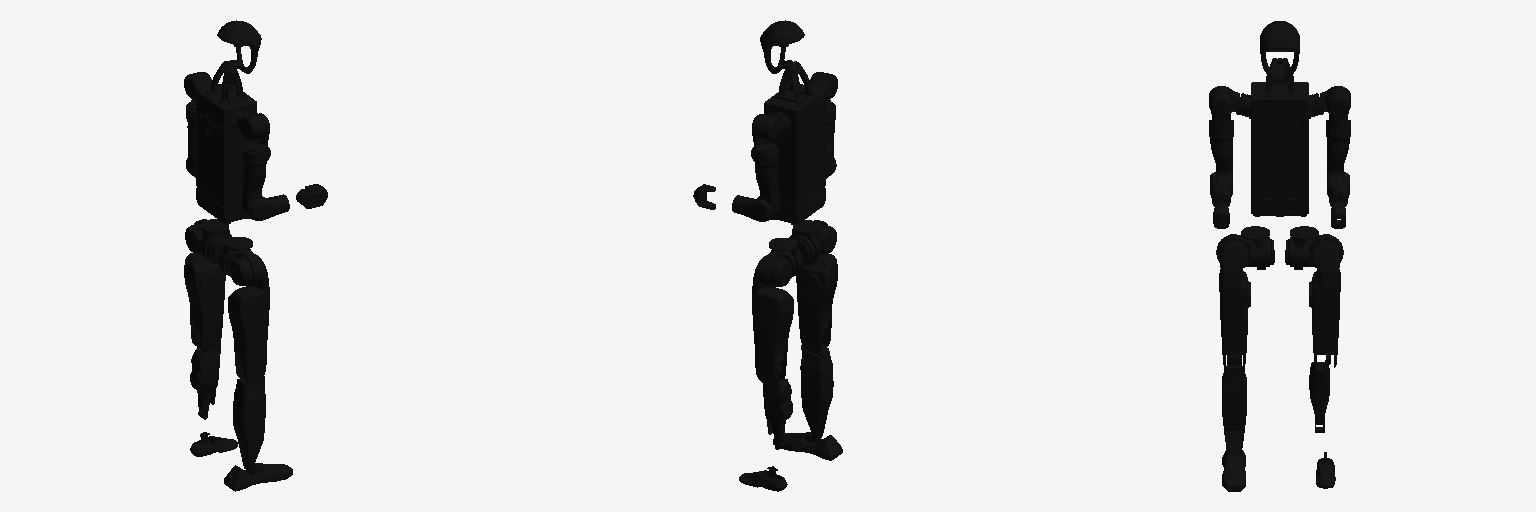
--- Facts derived from the render (not from the file) ---
The picture shows the robot from 3 angles, left to right: view 1: azimuth 30°, elevation 25°; view 2: azimuth 150°, elevation 25°; view 3: azimuth 270°, elevation 25°; orthographic projection.
Robot: h1_2 — 32 links, 31 joints (27 revolute, 4 fixed); root link pelvis; default pose: every joint at zero.
Links seen in each view (by area): view 1: torso_link, right_hip_roll_link, left_hip_roll_link, right_knee_link, left_knee_link, right_ankle_roll_link, right_hip_pitch_link, left_hip_yaw_link, right_shoulder_yaw_link, right_elbow_link, right_shoulder_roll_link, left_ankle_roll_link (+2 smaller); view 2: torso_link, left_hip_roll_link, right_hip_roll_link, right_knee_link, left_knee_link, right_ankle_roll_link, left_hip_pitch_link, right_hip_yaw_link, left_shoulder_yaw_link, left_elbow_link, left_shoulder_roll_link, left_ankle_roll_link (+2 smaller); view 3: torso_link, right_hip_roll_link, left_hip_roll_link, right_knee_link, left_knee_link, left_shoulder_roll_link, right_shoulder_roll_link, left_hip_yaw_link, right_hip_yaw_link, left_shoulder_yaw_link, right_shoulder_yaw_link, right_ankle_roll_link.
Boxes of the visible links, bbox=[...] form: torso_link: bbox=[196, 20, 261, 224]; right_hip_roll_link: bbox=[228, 254, 269, 383]; left_hip_roll_link: bbox=[184, 253, 225, 351]; right_knee_link: bbox=[233, 364, 265, 471]; left_knee_link: bbox=[190, 329, 220, 419]; right_ankle_roll_link: bbox=[224, 463, 292, 491]; right_hip_pitch_link: bbox=[227, 250, 262, 286]; left_hip_yaw_link: bbox=[201, 219, 231, 263]; right_shoulder_yaw_link: bbox=[242, 165, 265, 219]; right_elbow_link: bbox=[249, 194, 289, 220]; right_shoulder_roll_link: bbox=[243, 113, 269, 166]; left_ankle_roll_link: bbox=[190, 436, 237, 456]; torso_link: bbox=[760, 20, 825, 224]; left_hip_roll_link: bbox=[752, 255, 793, 385]; right_hip_roll_link: bbox=[796, 254, 837, 352]; right_knee_link: bbox=[800, 333, 833, 440]; left_knee_link: bbox=[763, 365, 792, 449]; right_ankle_roll_link: bbox=[773, 432, 842, 460]; left_hip_pitch_link: bbox=[759, 251, 794, 287]; right_hip_yaw_link: bbox=[789, 220, 821, 264]; left_shoulder_yaw_link: bbox=[755, 165, 779, 220]; left_elbow_link: bbox=[732, 195, 772, 221]; left_shoulder_roll_link: bbox=[752, 114, 778, 167]; left_ankle_roll_link: bbox=[739, 470, 787, 491]; torso_link: bbox=[1236, 21, 1323, 216]; right_hip_roll_link: bbox=[1219, 243, 1250, 366]; left_hip_roll_link: bbox=[1309, 243, 1340, 367]; right_knee_link: bbox=[1222, 355, 1246, 458]; left_knee_link: bbox=[1309, 355, 1330, 432]; left_shoulder_roll_link: bbox=[1326, 92, 1350, 142]; right_shoulder_roll_link: bbox=[1209, 92, 1233, 142]; left_hip_yaw_link: bbox=[1285, 226, 1318, 269]; right_hip_yaw_link: bbox=[1241, 226, 1274, 269]; left_shoulder_yaw_link: bbox=[1327, 139, 1349, 196]; right_shoulder_yaw_link: bbox=[1210, 139, 1232, 196]; right_ankle_roll_link: bbox=[1222, 450, 1245, 491].
Bounding box of the posed robot: 0.383 × 0.511 × 1.8 m (x, y, z).
24 mesh visuals loaded from 28 distinct referenced files (23 binary STL); not drawn: 5 (reference not matched to a file when rendering).

URDF robot description (h1_2):
<robot name="h1_2">

  <mujoco>
    <compiler meshdir="meshes" discardvisual="false"/>
  </mujoco>

  <!-- [CAUTION] uncomment when convert to mujoco -->
  <!-- <link name="world"></link>
  <joint name="floating_base_joint" type="floating">
    <parent link="world"/>
    <child link="pelvis"/>
  </joint> -->

  <link name="pelvis">
    <inertial>
      <origin xyz="-0.0004 3.7E-05 -0.046864" rpy="0 0 0"/>
      <mass value="5.983"/>
      <inertia ixx="49168.411E-06" ixy="-19.869E-06" ixz="-48.460E-06" iyy="9025.844E-06" iyz="3.431E-06" izz="53155.891E-06"/>
    </inertial>
    <visual>
      <origin xyz="0 0 0" rpy="0 0 0"/>
      <geometry>
        <mesh filename="meshes/pelvis.STL"/>
      </geometry>
      <material>
        <color rgba="0.1 0.1 0.1 1"/>
      </material>
    </visual>
    <collision>
      <origin xyz="0 0 0" rpy="0 0 0"/>
      <geometry>
        <sphere radius="0.05"/>
      </geometry>
    </collision>
  </link>

  <!-- L Leg -->
  <link name="left_hip_yaw_link">
    <inertial>
      <origin xyz="0 -0.026197 0.006647" rpy="0 0 0"/>
      <mass value="2.829"/>
      <inertia ixx="4553.605E-06" ixy="0.005E-06" ixz="0.817E-06" iyy="5688.730E-06" iyz="-345.157E-06" izz="3548.907E-06"/>
    </inertial>
    <visual>
      <origin xyz="0 0 0" rpy="0 0 0"/>
      <geometry>
        <mesh filename="meshes/left_hip_yaw_link.STL"/>
      </geometry>
      <material>
        <color rgba="0.1 0.1 0.1 1"/>
      </material>
    </visual>
    <collision>
      <origin xyz="0.02 0 0" rpy="0 1.5707963267948966192313216916398 0"/>
      <geometry>
        <cylinder radius="0.01" length="0.02"/>
      </geometry>
    </collision>
  </link>
  <joint name="left_hip_yaw_joint" type="revolute">
    <origin xyz="0 0.0875 -0.1632" rpy="0 0 0"/>
    <parent link="pelvis"/>
    <child link="left_hip_yaw_link"/>
    <axis xyz="0 0 1"/>
    <limit lower="-0.43" upper="0.43" effort="200" velocity="23"/>
  </joint>
  <link name="left_hip_pitch_link">
    <inertial>
      <origin xyz="-0.00781 -0.004724 -0.000063" rpy="0 0 0"/>
      <mass value="2.920"/>
      <inertia ixx="5594.7E-06" ixy="143.308E-06" ixz="-11.847E-06" iyy="3862.581E-06" iyz="-9.607E-06" izz="4450.563E-06"/>
    </inertial>
    <visual>
      <origin xyz="0 0 0" rpy="0 0 0"/>
      <geometry>
        <mesh filename="meshes/left_hip_pitch_link.STL"/>
      </geometry>
      <material>
        <color rgba="0.1 0.1 0.1 1"/>
      </material>
    </visual>
    <collision>
      <origin xyz="0 0 -0.2" rpy="0 0 0"/>
      <geometry>
        <cylinder radius="0.02" length="0.2"/>
      </geometry>
    </collision>
  </link>
  <joint name="left_hip_pitch_joint" type="revolute">
    <origin xyz="0 0.0755 0" rpy="0 0 0"/>
    <parent link="left_hip_yaw_link"/>
    <child link="left_hip_pitch_link"/>
    <axis xyz="0 1 0"/>
    <limit lower="-3.14" upper="2.5" effort="200" velocity="23"/>
  </joint>
  <link name="left_hip_roll_link">
    <inertial>
      <origin xyz="0.004171 -0.008576 -0.194509" rpy="0 0 0"/>
      <mass value="4.962"/>
      <inertia ixx="46305.869E-06" ixy="-322.626E-06" ixz="-1199.703E-06" iyy="47955.402E-06" iyz="288.147E-06" izz="8914.518E-06"/>
    </inertial>
    <visual>
      <origin xyz="0 0 0" rpy="0 0 0"/>
      <geometry>
        <mesh filename="meshes/left_hip_roll_link.STL"/>
      </geometry>
      <material>
        <color rgba="0.1 0.1 0.1 1"/>
      </material>
    </visual>
    <collision>
      <origin xyz="0 0.06 0" rpy="1.5707963267948966192313216916398 0 0"/>
      <geometry>
        <cylinder radius="0.02" length="0.01"/>
      </geometry>
    </collision>
  </link>
  <joint name="left_hip_roll_joint" type="revolute">
    <origin xyz="0 0 0" rpy="0 0 0"/>
    <parent link="left_hip_pitch_link"/>
    <child link="left_hip_roll_link"/>
    <axis xyz="1 0 0"/>
    <limit lower="-0.43" upper="3.14" effort="200" velocity="23"/>
  </joint>
  <link name="left_knee_link">
    <inertial>
      <origin xyz="0.000179 0.000121 -0.168936" rpy="0 0 0"/>
      <mass value="3.839"/>
      <inertia ixx="39002.363e-6" ixy="-72.364e-6" ixz="-794.506e-6" iyy="39042.376e-6" iyz="-18.663e-6" izz="5029.829e-6"/>
    </inertial>
    <visual>
      <origin xyz="0 0 0" rpy="0 0 0"/>
      <geometry>
        <mesh filename="meshes/left_knee_link.STL"/>
      </geometry>
      <material>
        <color rgba="0.1 0.1 0.1 1"/>
      </material>
    </visual>
    <collision>
      <origin xyz="0 0 -0.2" rpy="0 0 0"/>
      <geometry>
        <cylinder radius="0.02" length="0.2"/>
      </geometry>
    </collision>
  </link>
  <joint name="left_knee_joint" type="revolute">
    <origin xyz="0 0 -0.4" rpy="0 0 0"/>
    <parent link="left_hip_roll_link"/>
    <child link="left_knee_link"/>
    <axis xyz="0 1 0"/>
    <limit lower="-0.12" upper="2.19" effort="300" velocity="14"/>
  </joint>
  <link name="left_ankle_pitch_link">
    <inertial>
      <origin xyz="-0.000294 0 -0.010794" rpy="0 0 0"/>
      <mass value="0.102"/>
      <inertia ixx="0.000023944" ixy="0" ixz="0.000000121" iyy="0.000021837" iyz="0" izz="0.000013414"/>
    </inertial>
    <visual>
      <origin xyz="0 0 0" rpy="0 0 0"/>
      <geometry>
        <mesh filename="meshes/left_ankle_pitch_link.STL"/>
      </geometry>
      <material>
        <color rgba="0.1 0.1 0.1 1"/>
      </material>
    </visual>
    <collision>
      <origin xyz="0 0 0" rpy="0 0 0"/>
      <geometry>
        <mesh filename="meshes/left_ankle_pitch_link.STL"/>
      </geometry>
    </collision>
  </link>
  <joint name="left_ankle_pitch_joint" type="revolute">
    <origin xyz="0 0 -0.4" rpy="0 0 0"/>
    <parent link="left_knee_link"/>
    <child link="left_ankle_pitch_link"/>
    <axis xyz="0 1 0"/>
    <limit lower="-0.897334" upper="0.523598" effort="60" velocity="9"/>
  </joint>
  <link name="left_ankle_roll_link">
    <inertial>
      <origin xyz="0.029589 0 -0.015973" rpy="0 0 0"/>
      <mass value="0.747"/>
      <inertia ixx="648.830e-6" ixy="0" ixz="158.380e-6" iyy="3435.339e-6" iyz="0" izz="3583.259e-6"/>
    </inertial>
    <visual>
      <origin xyz="0 0 0" rpy="0 0 0"/>
      <geometry>
        <mesh filename="meshes/left_ankle_roll_link.STL"/>
      </geometry>
      <material>
        <color rgba="0.1 0.1 0.1 1"/>
      </material>
    </visual>
    <collision>
      <origin xyz="0 0 0" rpy="0 0 0"/>
      <geometry>
        <mesh filename="meshes/left_ankle_roll_link.STL"/>
      </geometry>
    </collision>
  </link>
  <joint name="left_ankle_roll_joint" type="revolute">
    <origin xyz="0 0 -0.02" rpy="0 0 0"/>
    <parent link="left_ankle_pitch_link"/>
    <child link="left_ankle_roll_link"/>
    <axis xyz="1 0 0"/>
    <limit lower="-0.261799" upper="0.261799" effort="40" velocity="9"/>
  </joint>

  <!-- R Leg -->
  <link name="right_hip_yaw_link">
    <inertial>
      <origin xyz="0 0.026197 0.006647" rpy="0 0 0"/>
      <mass value="2.829"/>
      <inertia ixx="4553.605E-06" ixy="-0.005E-06" ixz="0.817E-06" iyy="5688.730E-06" iyz="345.157E-06" izz="3548.907E-06"/>
    </inertial>
    <visual>
      <origin xyz="0 0 0" rpy="0 0 0"/>
      <geometry>
        <mesh filename="meshes/right_hip_yaw_link.STL"/>
      </geometry>
      <material>
        <color rgba="0.1 0.1 0.1 1"/>
      </material>
    </visual>
    <collision>
      <origin xyz="0.02 0 0" rpy="0 1.5707963267948966192313216916398 0"/>
      <geometry>
        <cylinder radius="0.01" length="0.02"/>
      </geometry>
    </collision>
  </link>
  <joint name="right_hip_yaw_joint" type="revolute">
    <origin xyz="0 -0.0875 -0.1632" rpy="0 0 0"/>
    <parent link="pelvis"/>
    <child link="right_hip_yaw_link"/>
    <axis xyz="0 0 1"/>
    <limit lower="-0.43" upper="0.43" effort="200" velocity="23"/>
  </joint>
  <link name="right_hip_pitch_link">
    <inertial>
      <origin xyz="-0.00781 0.004724 -0.000063" rpy="0 0 0"/>
      <mass value="2.920"/>
      <inertia ixx="5594.7E-06" ixy="-143.308E-06" ixz="-11.847E-06" iyy="3862.581E-06" iyz="9.607E-06" izz="4450.563E-06"/>
    </inertial>
    <visual>
      <origin xyz="0 0 0" rpy="0 0 0"/>
      <geometry>
        <mesh filename="meshes/right_hip_pitch_link.STL"/>
      </geometry>
      <material>
        <color rgba="0.1 0.1 0.1 1"/>
      </material>
    </visual>
    <collision>
      <origin xyz="0 0 -0.2" rpy="0 0 0"/>
      <geometry>
        <cylinder radius="0.02" length="0.2"/>
      </geometry>
    </collision>
  </link>
  <joint name="right_hip_pitch_joint" type="revolute">
    <origin xyz="0 -0.0755 0" rpy="0 0 0"/>
    <parent link="right_hip_yaw_link"/>
    <child link="right_hip_pitch_link"/>
    <axis xyz="0 1 0"/>
    <limit lower="-3.14" upper="2.5" effort="200" velocity="23"/>
  </joint>
  <link name="right_hip_roll_link">
    <inertial>
      <origin xyz="0.004171 0.008576 -0.194509" rpy="0 0 0"/>
      <mass value="4.962"/>
      <inertia ixx="46305.869E-06" ixy="322.626E-06" ixz="-1199.703E-06" iyy="47955.402E-06" iyz="-288.147E-06" izz="8914.518E-06"/>
    </inertial>
    <visual>
      <origin xyz="0 0 0" rpy="0 0 0"/>
      <geometry>
        <mesh filename="meshes/right_hip_roll_link.STL"/>
      </geometry>
      <material>
        <color rgba="0.1 0.1 0.1 1"/>
      </material>
    </visual>
    <collision>
      <origin xyz="0 -0.06 0" rpy="1.5707963267948966192313216916398 0 0"/>
      <geometry>
        <cylinder radius="0.02" length="0.01"/>
      </geometry>
    </collision>
  </link>
  <joint name="right_hip_roll_joint" type="revolute">
    <origin xyz="0 0 0" rpy="0 0 0"/>
    <parent link="right_hip_pitch_link"/>
    <child link="right_hip_roll_link"/>
    <axis xyz="1 0 0"/>
    <limit lower="-3.14" upper="0.43" effort="200" velocity="23"/>
  </joint>
  <link name="right_knee_link">
    <inertial>
      <origin xyz="0.000179 -0.000121 -0.168936" rpy="0 0 0"/>
      <mass value="3.839"/>
      <inertia ixx="39002.363e-6" ixy="72.364e-6" ixz="-794.506e-6" iyy="39042.376e-6" iyz="18.663e-6" izz="5029.829e-6"/>
    </inertial>
    <visual>
      <origin xyz="0 0 0" rpy="0 0 0"/>
      <geometry>
        <mesh filename="meshes/right_knee_link.STL"/>
      </geometry>
      <material>
        <color rgba="0.1 0.1 0.1 1"/>
      </material>
    </visual>
    <collision>
      <origin xyz="0 0 -0.2" rpy="0 0 0"/>
      <geometry>
        <cylinder radius="0.02" length="0.2"/>
      </geometry>
    </collision>
  </link>
  <joint name="right_knee_joint" type="revolute">
    <origin xyz="0 0 -0.4" rpy="0 0 0"/>
    <parent link="right_hip_roll_link"/>
    <child link="right_knee_link"/>
    <axis xyz="0 1 0"/>
    <limit lower="-0.12" upper="2.19" effort="300" velocity="14"/>
  </joint>
  <link name="right_ankle_pitch_link">
    <inertial>
      <origin xyz="-0.000294 0 -0.010794" rpy="0 0 0"/>
      <mass value="0.102"/>
      <inertia ixx="0.000023944" ixy="0" ixz="0.000000121" iyy="0.000021837" iyz="0" izz="0.000013414"/>
    </inertial>
    <visual>
      <origin xyz="0 0 0" rpy="0 0 0"/>
      <geometry>
        <mesh filename="meshes/right_ankle_pitch_link.STL"/>
      </geometry>
      <material>
        <color rgba="0.1 0.1 0.1 1"/>
      </material>
    </visual>
    <collision>
      <origin xyz="0 0 0" rpy="0 0 0"/>
      <geometry>
        <mesh filename="meshes/right_ankle_pitch_link.STL"/>
      </geometry>
    </collision>
  </link>
  <joint name="right_ankle_pitch_joint" type="revolute">
    <origin xyz="0 0 -0.4" rpy="0 0 0"/>
    <parent link="right_knee_link"/>
    <child link="right_ankle_pitch_link"/>
    <axis xyz="0 1 0"/>
    <limit lower="-0.897334" upper="0.523598" effort="60" velocity="9"/>
  </joint>
  <link name="right_ankle_roll_link">
    <inertial>
      <origin xyz="0.029589 0 -0.015973" rpy="0 0 0"/>
      <mass value="0.747"/>
      <inertia ixx="648.830e-6" ixy="0" ixz="158.380e-6" iyy="3435.339e-6" iyz="0" izz="3583.259e-6"/>
    </inertial>
    <visual>
      <origin xyz="0 0 0" rpy="0 0 0"/>
      <geometry>
        <mesh filename="meshes/right_ankle_roll_link.STL"/>
      </geometry>
      <material>
        <color rgba="0.1 0.1 0.1 1"/>
      </material>
    </visual>
    <collision>
      <origin xyz="0 0 0" rpy="0 0 0"/>
      <geometry>
        <mesh filename="meshes/right_ankle_roll_link.STL"/>
      </geometry>
    </collision>
  </link>
  <joint name="right_ankle_roll_joint" type="revolute">
    <origin xyz="0 0 -0.02" rpy="0 0 0"/>
    <parent link="right_ankle_pitch_link"/>
    <child link="right_ankle_roll_link"/>
    <axis xyz="1 0 0"/>
    <limit lower="-0.261799" upper="0.261799" effort="40" velocity="9"/>
  </joint>

  <!-- Torso -->
  <link name="torso_link">
    <inertial>
      <origin xyz="0.000489 0.002797 0.20484" rpy="0 0 0"/>
      <mass value="17.789"/>
      <inertia ixx="0.4873" ixy="-0.00053763" ixz="0.0020276" iyy="0.40963" iyz="-0.00074582" izz="0.12785"/>
    </inertial>
    <visual>
      <origin xyz="0 0 0" rpy="0 0 0"/>
      <geometry>
        <mesh filename="meshes/torso_link.STL"/>
      </geometry>
      <material>
        <color rgba="0.1 0.1 0.1 1"/>
      </material>
    </visual>
    <collision>
      <origin xyz="0 0 0.15" rpy="0 0 0"/>
      <geometry>
        <box size="0.08 0.16 0.1"/>
      </geometry>
    </collision>
  </link>
  <joint name="torso_joint" type="revolute">
    <origin xyz="0 0 0" rpy="0 0 0"/>
    <parent link="pelvis"/>
    <child link="torso_link"/>
    <axis xyz="0 0 1"/>
    <limit lower="-2.35" upper="2.35" effort="200" velocity="23"/>
  </joint>

  <!-- L arm -->
  <link name="left_shoulder_pitch_link">
    <inertial>
      <origin xyz="0.003053 0.06042 -0.0059" rpy="0 0 0"/>
      <mass value="1.327"/>
      <inertia ixx="0.00058661" ixy="-2.0157E-05" ixz="2.985E-06" iyy="0.0003989" iyz="2.238E-05" izz="0.00052936"/>
    </inertial>
    <visual>
      <origin xyz="0 0 0" rpy="0 0 0"/>
      <geometry>
        <mesh filename="meshes/left_shoulder_pitch_link.STL"/>
      </geometry>
      <material>
        <color rgba="0.1 0.1 0.1 1"/>
      </material>
    </visual>
    <collision>
      <origin xyz="0 0 0" rpy="0 0 0"/>
      <geometry>
        <mesh filename="meshes/left_shoulder_pitch_link.STL"/>
      </geometry>
    </collision>
  </link>
  <joint name="left_shoulder_pitch_joint" type="revolute">
    <origin xyz="0 0.14806 0.42333" rpy="0.2618 0 0"/>
    <parent link="torso_link"/>
    <child link="left_shoulder_pitch_link"/>
    <axis xyz="0 1 0"/>
    <limit lower="-3.14" upper="1.57" effort="40" velocity="9"/>
  </joint>
  <link name="left_shoulder_roll_link">
    <inertial>
      <origin xyz="-0.030932 -1E-06 -0.10609" rpy="0 0 0"/>
      <mass value="1.393"/>
      <inertia ixx="0.0018408" ixy="3.98E-07" ixz="-0.00048324" iyy="0.001934638" iyz="1.61E-07" izz="0.000617733"/>
    </inertial>
    <visual>
      <origin xyz="0 0 0" rpy="0 0 0"/>
      <geometry>
        <mesh filename="meshes/left_shoulder_roll_link.STL"/>
      </geometry>
      <material>
        <color rgba="0.1 0.1 0.1 1"/>
      </material>
    </visual>
    <collision>
      <origin xyz="0 0 0" rpy="0 0 0"/>
      <geometry>
        <mesh filename="meshes/left_shoulder_roll_link.STL"/>
      </geometry>
    </collision>
  </link>
  <joint name="left_shoulder_roll_joint" type="revolute">
    <origin xyz="0.0342 0.061999 -0.0060011" rpy="-0.2618 0 0"/>
    <parent link="left_shoulder_pitch_link"/>
    <child link="left_shoulder_roll_link"/>
    <axis xyz="1 0 0"/>
    <limit lower="-0.38" upper="3.4" effort="40" velocity="9"/>
  </joint>
  <link name="left_shoulder_yaw_link">
    <inertial>
      <origin xyz="0.004583 0.001128 -0.001128" rpy="0 0 0"/>
      <mass value="1.505"/>
      <inertia ixx="0.004199" ixy="-1.7786E-05" ixz="0.00018372" iyy="0.0043139" iyz="9.278E-05" izz="0.00065755"/>
    </inertial>
    <visual>
      <origin xyz="0 0 0" rpy="0 0 0"/>
      <geometry>
        <mesh filename="meshes/left_shoulder_yaw_link.STL"/>
      </geometry>
      <material>
        <color rgba="0.1 0.1 0.1 1"/>
      </material>
    </visual>
    <collision>
      <origin xyz="0 0 0" rpy="0 0 0"/>
      <geometry>
        <mesh filename="meshes/left_shoulder_yaw_link.STL"/>
      </geometry>
    </collision>
  </link>
  <joint name="left_shoulder_yaw_joint" type="revolute">
    <origin xyz="-0.0342 0 -0.1456" rpy="0 0 0"/>
    <parent link="left_shoulder_roll_link"/>
    <child link="left_shoulder_yaw_link"/>
    <axis xyz="0 0 1"/>
    <limit lower="-2.66" upper="3.01" effort="18" velocity="20"/>
  </joint>
  <link name="left_elbow_link">
    <inertial>
      <origin xyz="0.077092 -0.028751 -0.009714 " rpy="0 0 0"/>
      <mass value="0.691"/>
      <inertia ixx="0.000318491" ixy="0.000224554" ixz="6.62076E-05" iyy="0.000861224" iyz="-2.3329E-05" izz="0.000897899"/>
    </inertial>
    <visual>
      <origin xyz="0 0 0" rpy="0 0 0"/>
      <geometry>
        <mesh filename="meshes/left_elbow_link.STL"/>
      </geometry>
      <material>
        <color rgba="0.1 0.1 0.1 1"/>
      </material>
    </visual>
    <collision>
      <origin xyz="0 0 0" rpy="0 0 0"/>
      <geometry>
        <mesh filename="meshes/left_elbow_link.STL"/>
      </geometry>
    </collision>
  </link>
  <joint name="left_elbow_joint" type="revolute">
    <origin xyz="0.006 0.0329 -0.182" rpy="0 0 0"/>
    <parent link="left_shoulder_yaw_link"/>
    <child link="left_elbow_link"/>
    <axis xyz="0 1 0"/>
    <limit lower="-0.95" upper="3.18" effort="18" velocity="20"/>
  </joint>

  <link name="left_wrist_roll_link">
    <inertial>
      <origin xyz="0.035281 -0.002320 0.000337" rpy="0 0 0"/>
      <mass value="0.683"/>
      <inertia ixx="0.000313275" ixy="0.000016521" ixz="-0.000002501" iyy="0.000310412" iyz="0.000005435" izz="0.000345998"/>
    </inertial>
    <visual>
      <origin xyz="0 0 0" rpy="0 0 0"/>
      <geometry>
        <mesh filename="meshes/left_wrist_roll_link.STL"/>
      </geometry>
      <material>
        <color rgba="0.1 0.1 0.1 1"/>
      </material>
    </visual>
    <collision>
      <geometry>
        <mesh filename="meshes/left_wrist_roll_link.STL"/>
      </geometry>
    </collision>
  </link>
  <joint name="left_wrist_roll_joint" type="revolute">
    <origin xyz="0.121 -0.0329 -0.011" rpy="0 0 0"/>
    <parent link="left_elbow_link"/>
    <child link="left_wrist_roll_link"/>
    <axis xyz="1 0 0"/>
    <limit lower="-3.01" upper="2.75" effort="19" velocity="31.4"/>
  </joint>

  <link name="left_wrist_pitch_link">
    <inertial>
      <origin xyz="0.020395 0.000036 -0.002973" rpy="0 0 0"/>
      <mass value="0.484"/>
      <inertia ixx="0.000071364" ixy="0.000000308" ixz="0.000001485" iyy="0.000069915" iyz="-0.000000088" izz="0.000070702"/>
    </inertial>
    <visual>
      <origin xyz="0 0 0" rpy="0 0 0"/>
      <geometry>
        <mesh filename="meshes/left_wrist_pitch_link.STL"/>
      </geometry>
      <material>
        <color rgba="0.1 0.1 0.1 1"/>
      </material>
    </visual>
    <collision>
      <geometry>
        <mesh filename="meshes/left_wrist_pitch_link.STL"/>
      </geometry>
    </collision>
  </link>
  <joint name="left_wrist_pitch_joint" type="revolute">
    <origin xyz="0.087 0 0" rpy="0 0 0"/>
    <parent link="left_wrist_roll_link"/>
    <child link="left_wrist_pitch_link"/>
    <axis xyz="0 1 0"/>
    <limit lower="-0.4625" upper="0.4625" effort="19" velocity="31.4"/>
  </joint>
  <link name="left_wrist_yaw_link">
    <inertial>
      <origin xyz="0.027967 0.000096 0.000739" rpy="0 0 0"/>
      <mass value="0.124"/>
      <inertia ixx="137.3e-6" ixy="-0.171e-6" ixz="2.942e-6" iyy="169.998e-6" iyz="-0.025e-6" izz="84.808e-6"/>
    </inertial>
    <visual>
      <origin xyz="0 0 0" rpy="0 0 0"/>
      <geometry>
        <mesh filename="meshes/wrist_yaw_link.STL"/>
      </geometry>
      <material>
        <color rgba="0.1 0.1 0.1 1"/>
      </material>
    </visual>
    <!-- <collision>
      <origin xyz="0 0 0" rpy="0 0 0"/>
      <geometry>
        <mesh filename="meshes/wrist_yaw_link.STL"/>
      </geometry>
    </collision> -->
  </link>
  <joint name="left_wrist_yaw_joint" type="revolute">
    <origin xyz="0.020 0 0" rpy="0 0 0"/>
    <parent link="left_wrist_pitch_link"/>
    <child link="left_wrist_yaw_link"/>
    <axis xyz="0 0 1"/>
    <limit lower="-1.27" upper="1.27" effort="19" velocity="31.4"/>
  </joint>

  <!-- R arm -->
  <link name="right_shoulder_pitch_link">
    <inertial>
      <origin xyz="0.003053 -0.06042 -0.0059" rpy="0 0 0"/>
      <mass value="1.327"/>
      <inertia ixx="0.00058661" ixy="2.0157E-05" ixz="2.985E-06" iyy="0.0003989" iyz="-2.238E-05" izz="0.00052936"/>
    </inertial>
    <visual>
      <origin xyz="0 0 0" rpy="0 0 0"/>
      <geometry>
        <mesh filename="meshes/right_shoulder_pitch_link.STL"/>
      </geometry>
      <material>
        <color rgba="0.1 0.1 0.1 1"/>
      </material>
    </visual>
    <collision>
      <origin xyz="0 0 0" rpy="0 0 0"/>
      <geometry>
        <mesh filename="meshes/right_shoulder_pitch_link.STL"/>
      </geometry>
    </collision>
  </link>
  <joint name="right_shoulder_pitch_joint" type="revolute">
    <origin xyz="0 -0.14806 0.42333" rpy="-0.2618 0 0"/>
    <parent link="torso_link"/>
    <child link="right_shoulder_pitch_link"/>
    <axis xyz="0 1 0"/>
    <limit lower="-3.14" upper="1.57" effort="40" velocity="9"/>
  </joint>
  <link name="right_shoulder_roll_link">
    <inertial>
      <origin xyz="-0.030932 1E-06 -0.10609" rpy="0 0 0"/>
      <mass value="1.393"/>
      <inertia ixx="0.0018408" ixy="-3.98E-07" ixz="-0.00048324" iyy="0.001934638" iyz="-1.61E-07" izz="0.000617733"/>
    </inertial>
    <visual>
      <origin xyz="0 0 0" rpy="0 0 0"/>
      <geometry>
        <mesh filename="meshes/right_shoulder_roll_link.STL"/>
      </geometry>
      <material>
        <color rgba="0.1 0.1 0.1 1"/>
      </material>
    </visual>
    <collision>
      <origin xyz="0 0 0" rpy="0 0 0"/>
      <geometry>
        <mesh filename="meshes/right_shoulder_roll_link.STL"/>
      </geometry>
    </collision>
  </link>
  <joint name="right_shoulder_roll_joint" type="revolute">
    <origin xyz="0.0342 -0.061999 -0.0060011" rpy="0.2618 0 0"/>
    <parent link="right_shoulder_pitch_link"/>
    <child link="right_shoulder_roll_link"/>
    <axis xyz="1 0 0"/>
    <limit lower="-3.4" upper="0.38" effort="40" velocity="9"/>
  </joint>
  <link name="right_shoulder_yaw_link">
    <inertial>
      <origin xyz="0.004583 -0.001128 -0.001128" rpy="0 0 0"/>
      <mass value="1.505"/>
      <inertia ixx="0.004199" ixy="1.7786E-05" ixz="0.00018372" iyy="0.0043139" iyz="-9.278E-05" izz="0.00065755"/>

    </inertial>
    <visual>
      <origin xyz="0 0 0" rpy="0 0 0"/>
      <geometry>
        <mesh filename="meshes/right_shoulder_yaw_link.STL"/>
      </geometry>
      <material>
        <color rgba="0.1 0.1 0.1 1"/>
      </material>
    </visual>
    <collision>
      <origin xyz="0 0 0" rpy="0 0 0"/>
      <geometry>
        <mesh filename="meshes/right_shoulder_yaw_link.STL"/>
      </geometry>
    </collision>
  </link>
  <joint name="right_shoulder_yaw_joint" type="revolute">
    <origin xyz="-0.0342 0 -0.1456" rpy="0 0 0"/>
    <parent link="right_shoulder_roll_link"/>
    <child link="right_shoulder_yaw_link"/>
    <axis xyz="0 0 1"/>
    <limit lower="-3.01" upper="2.66" effort="18" velocity="20"/>
  </joint>
  <link name="right_elbow_link">
    <inertial>
      <origin xyz="0.077092 0.028751 -0.009714 " rpy="0 0 0"/>
      <mass value="0.691"/>
      <inertia ixx="0.000318491" ixy="-0.000224554" ixz="6.62076E-05" iyy="0.000861224" iyz="2.3329E-05" izz="0.000897899"/>
    </inertial>
    <visual>
      <origin xyz="0 0 0" rpy="0 0 0"/>
      <geometry>
        <mesh filename="meshes/right_elbow_link.STL"/>
      </geometry>
      <material>
        <color rgba="0.1 0.1 0.1 1"/>
      </material>
    </visual>
    <collision>
      <origin xyz="0 0 0" rpy="0 0 0"/>
      <geometry>
        <mesh filename="meshes/right_elbow_link.STL"/>
      </geometry>
    </collision>
  </link>
  <joint name="right_elbow_joint" type="revolute">
    <origin xyz="0.006 -0.0329 -0.182" rpy="0 0 0"/>
    <parent link="right_shoulder_yaw_link"/>
    <child link="right_elbow_link"/>
    <axis xyz="0 1 0"/>
    <limit lower="-0.95" upper="3.18" effort="18" velocity="20"/>
  </joint>

  <link name="right_wrist_roll_link">
    <inertial>
      <origin xyz="0.035281 -0.002320 0.000337" rpy="0 0 0"/>
      <mass value="0.683"/>
      <inertia ixx="0.000313275" ixy="0.000016521" ixz="-0.000002501" iyy="0.000310412" iyz="0.000005435" izz="0.000345998"/>
    </inertial>
    <visual>
      <origin xyz="0 0 0" rpy="0 0 0"/>
      <geometry>
        <mesh filename="meshes/right_wrist_roll_link.STL"/>
      </geometry>
      <material>
        <color rgba="0.1 0.1 0.1 1"/>
      </material>
    </visual>
    <collision>
      <geometry>
        <mesh filename="meshes/right_wrist_roll_link.STL"/>
      </geometry>
    </collision>
  </link>
  <joint name="right_wrist_roll_joint" type="revolute">
    <origin xyz="0.121 0.0329 -0.011" rpy="0 0 0"/>
    <parent link="right_elbow_link"/>
    <child link="right_wrist_roll_link"/>
    <axis xyz="1 0 0"/>
    <limit lower="-2.75" upper="3.01" effort="19" velocity="31.4"/>
  </joint>

  <link name="right_wrist_pitch_link">
    <inertial>
      <origin xyz="0.020395 0.000036 -0.002973" rpy="0 0 0"/>
      <mass value="0.484"/>
      <inertia ixx="0.000071364" ixy="0.000000308" ixz="0.000001485" iyy="0.000069915" iyz="-0.000000088" izz="0.000070702"/>
    </inertial>
    <visual>
      <origin xyz="0 0 0" rpy="0 0 0"/>
      <geometry>
        <mesh filename="meshes/right_wrist_pitch_link.STL"/>
      </geometry>
      <material>
        <color rgba="0.1 0.1 0.1 1"/>
      </material>
    </visual>
    <collision>
      <geometry>
        <mesh filename="meshes/right_wrist_pitch_link.STL"/>
      </geometry>
    </collision>
  </link>
  <joint name="right_wrist_pitch_joint" type="revolute">
    <origin xyz="0.087 0 0" rpy="0 0 0"/>
    <parent link="right_wrist_roll_link"/>
    <child link="right_wrist_pitch_link"/>
    <axis xyz="0 1 0"/>
    <limit lower="-0.4625" upper="0.4625" effort="19" velocity="31.4"/>
  </joint>
  <link name="right_wrist_yaw_link">
    <inertial>
      <origin xyz="0.027967 -0.000096 0.000739" rpy="0 0 0"/>
      <mass value="0.124"/>
      <inertia ixx="137.3e-6" ixy="0.171e-6" ixz="2.942e-6" iyy="169.998e-6" iyz="0.025e-6" izz="84.808e-6"/>
    </inertial>
    <visual>
      <origin xyz="0 0 0" rpy="0 0 0"/>
      <geometry>
        <mesh filename="meshes/wrist_yaw_link.STL"/>
      </geometry>
      <material>
        <color rgba="0.1 0.1 0.1 1"/>
      </material>
    </visual>
    <!-- <collision>
      <origin xyz="0 0 0" rpy="0 0 0"/>
      <geometry>
        <mesh filename="meshes/wrist_yaw_link.STL"/>
      </geometry>
    </collision> -->
  </link>
  <joint name="right_wrist_yaw_joint" type="revolute">
    <origin xyz="0.020 0 0" rpy="0 0 0"/>
    <parent link="right_wrist_pitch_link"/>
    <child link="right_wrist_yaw_link"/>
    <axis xyz="0 0 1"/>
    <limit lower="-1.27" upper="1.27" effort="19" velocity="31.4"/>
  </joint>

  <!-- LOGO -->
  <link name="logo_link">
    <visual>
      <origin xyz="0 0 0" rpy="0 0 0"/>
      <geometry>
        <mesh filename="meshes/logo_link.STL"/>
      </geometry>
      <material>
        <color rgba="1 1 1 1"/>
      </material>
    </visual>
  </link>
  <joint name="logo_joint" type="fixed">
    <origin xyz="0 0 0" rpy="0 0 0"/>
    <parent link="torso_link"/>
    <child link="logo_link"/>
    <axis xyz="0 0 0"/>
  </joint>

  <!-- IMU -->
  <link name="imu_link"></link>
  <joint name="imu_joint" type="fixed">
    <origin xyz="-0.04452 -0.01891 0.27756" rpy="0 0 0"/>
    <parent link="torso_link"/>
    <child link="imu_link"/>
  </joint>

  <!-- Camera&Lidar -->
  <link name="camera_link"></link>
  <joint name="camera_joint" type="fixed">
    <origin xyz="0.11109 0.01750 0.68789" rpy="0 0.8859291283123216 0"/>
    <parent link="torso_link"/>
    <child link="camera_link"/>
  </joint>
  <link name="lidar_link"></link>
  <joint name="lidar_joint" type="fixed">
    <origin xyz="0.04874 0 0.67980" rpy="0 0.24015730507441985 0"/>
    <parent link="torso_link"/>
    <child link="lidar_link"/>
  </joint>
</robot>
